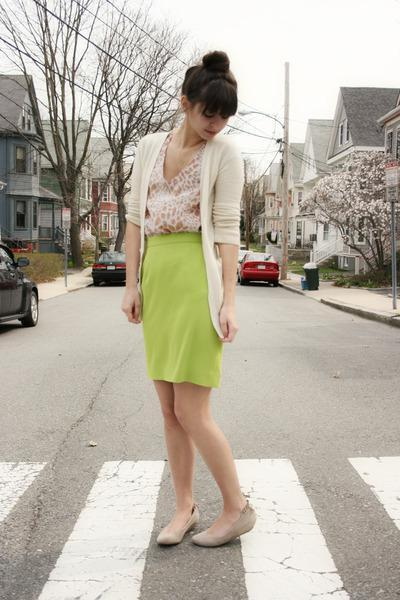jacket: (119, 132, 255, 324)
skirt: (137, 231, 229, 385)
vest: (139, 132, 224, 239)
